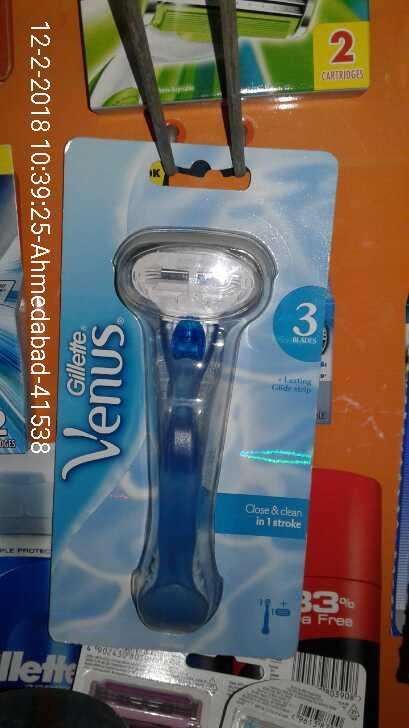venus: (50, 132, 316, 656)
